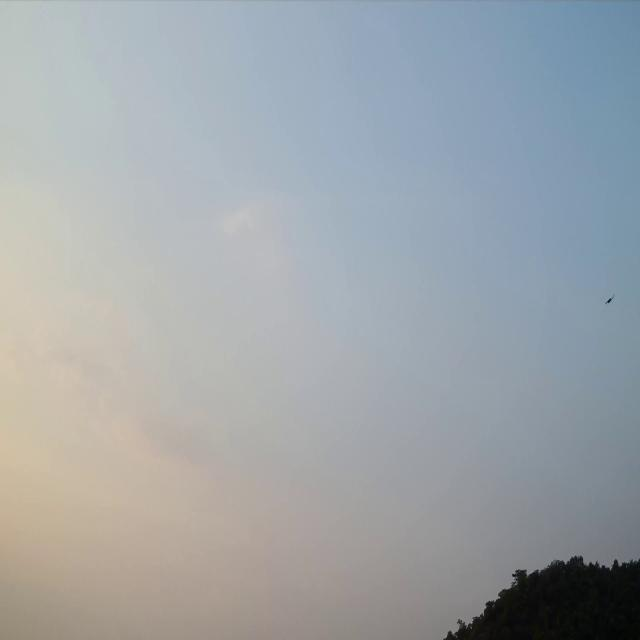UAV: (606, 295, 616, 305)
